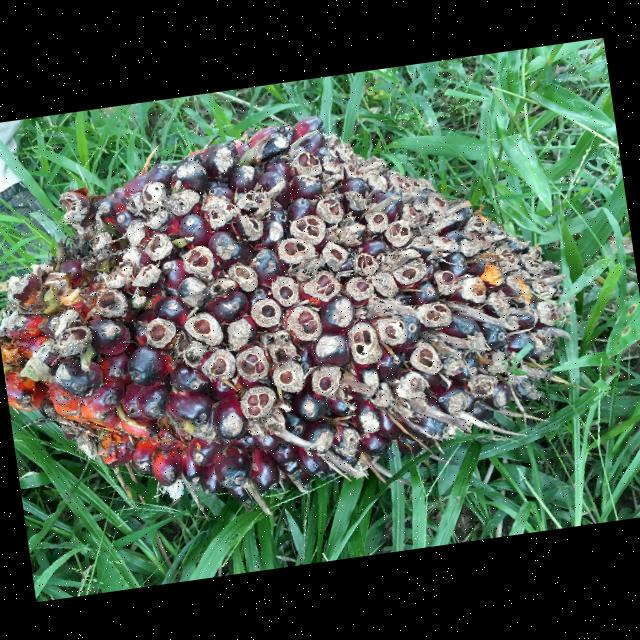Damaged: (0, 127, 570, 496)
